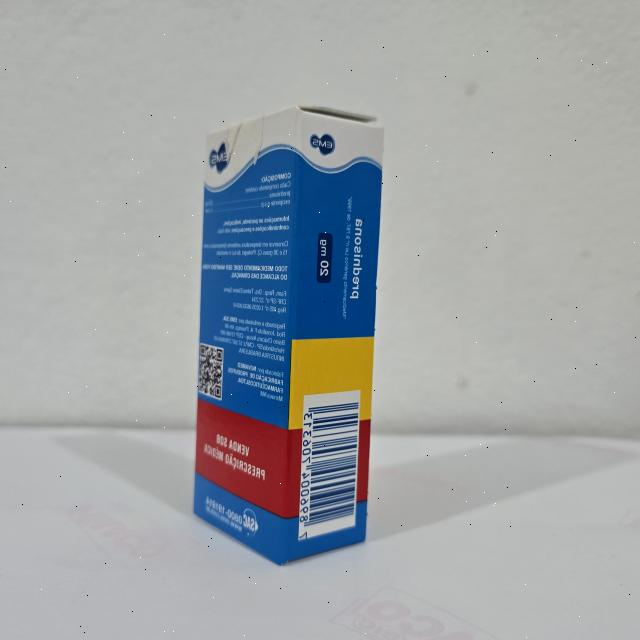prednisona: (186, 100, 391, 572)
